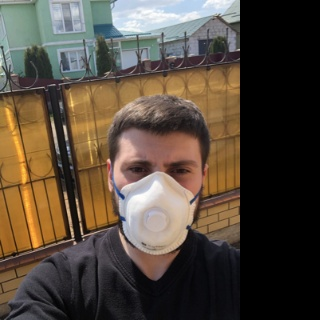with_mask: (114, 144, 203, 256)
